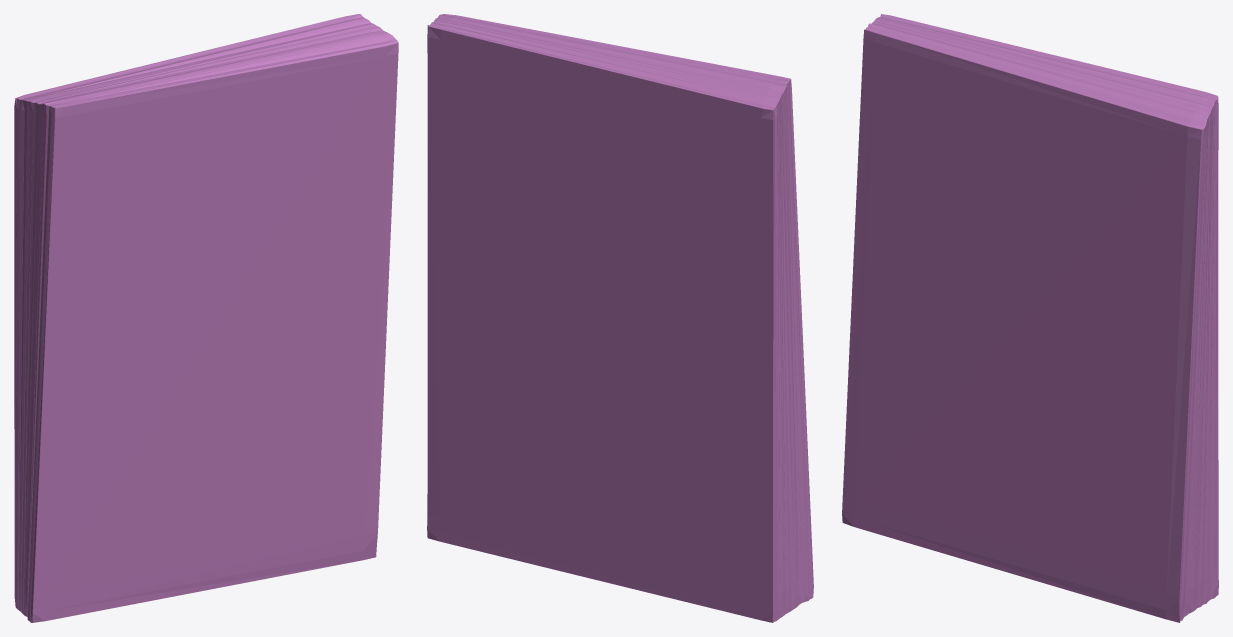
Rendered from paper_stack_a01.glb.
3 views of the same model, side by side, from view 1: azimuth 30°, elevation 25°; view 2: azimuth 150°, elevation 25°; view 3: azimuth 330°, elevation 25° (orthographic). The views are drawn at different scales.
Parts seen in each view (by area): view 1: geometry_0; view 2: geometry_0; view 3: geometry_0.
Part boxes in pixels (x1=…): geometry_0: x1=14, y1=14, x2=398, y2=622; geometry_0: x1=427, y1=14, x2=813, y2=622; geometry_0: x1=842, y1=14, x2=1218, y2=622.
Size of the model in its own units: 0.3501 by 0.48 by 0.0492.
